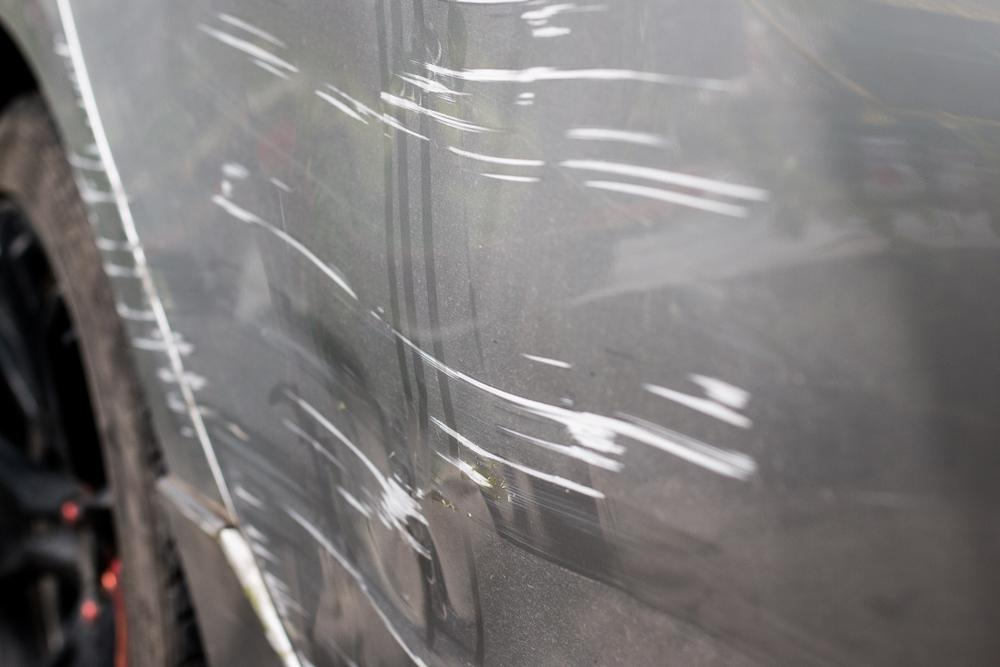scratch: (41, 0, 775, 667)
